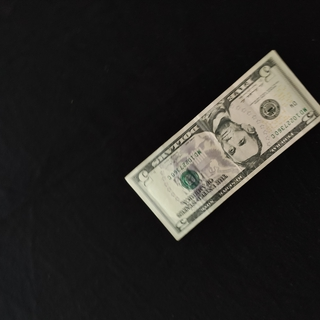5USDFront: (124, 49, 320, 241)
